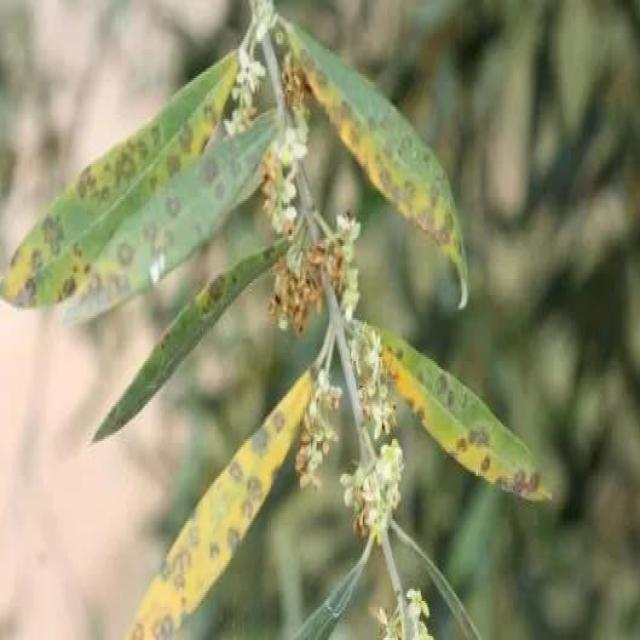Peacock Eye: (0, 51, 237, 304), (282, 18, 467, 308), (126, 369, 313, 638), (63, 109, 278, 320), (93, 232, 292, 439), (374, 326, 550, 496)
